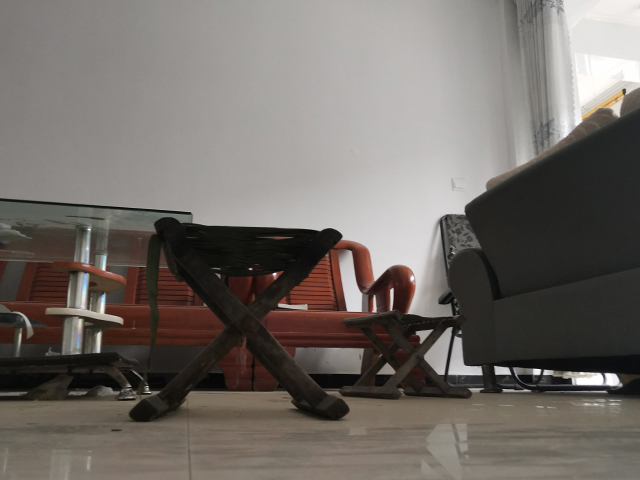curtain: (515, 1, 576, 151)
sofa: (436, 87, 640, 395)
stool: (125, 215, 352, 422), (257, 230, 453, 393), (338, 308, 473, 401)
table: (1, 193, 195, 398)
